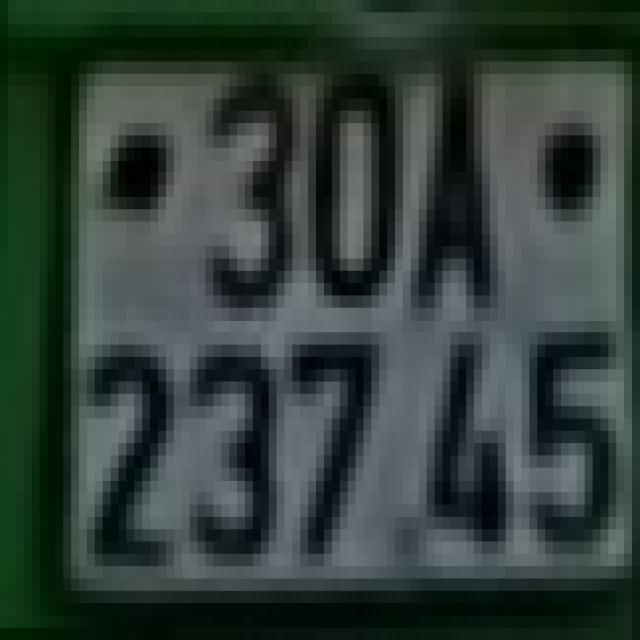0: (308, 61, 403, 308)
2: (87, 344, 174, 566)
3: (205, 61, 292, 308), (190, 344, 276, 554)
4: (426, 332, 506, 554)
5: (530, 320, 616, 542)
7: (292, 332, 380, 554)
A: (411, 62, 506, 320)
